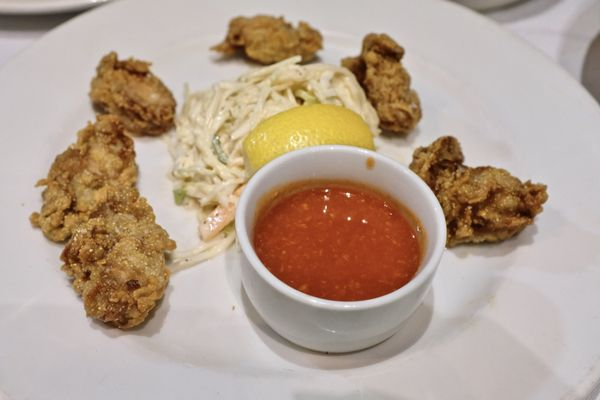sushi: (234, 144, 448, 355)
